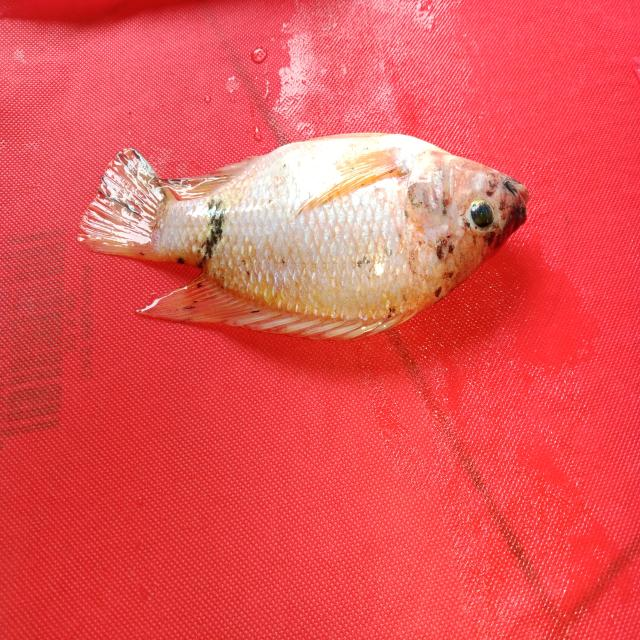ikan: (69, 106, 545, 360)
